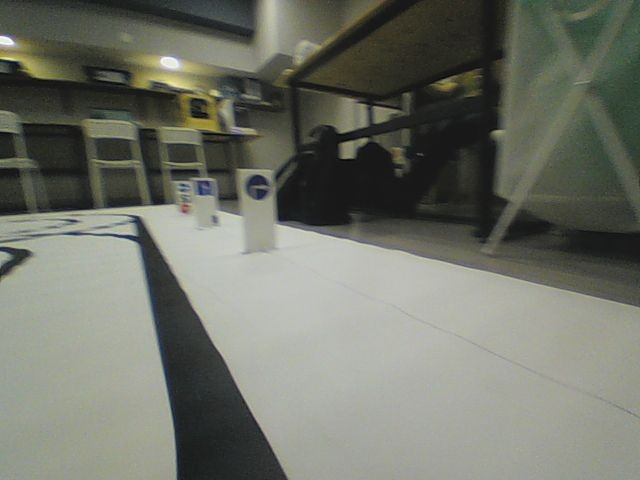Right: (246, 174, 271, 202)
